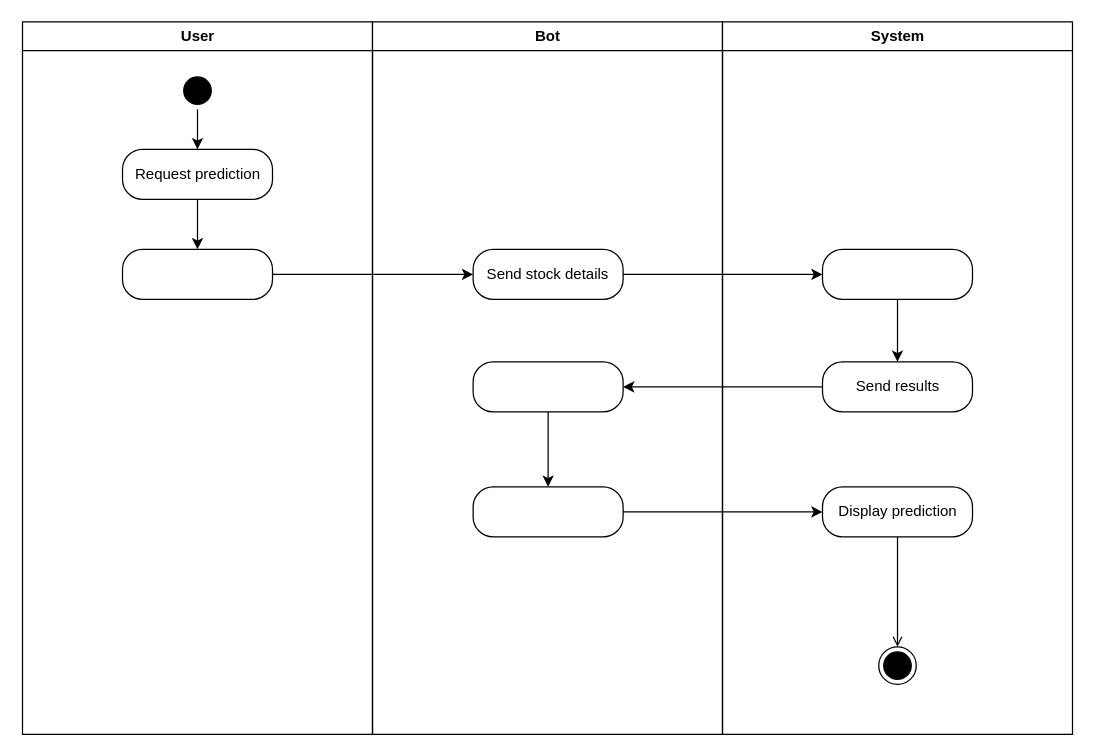
Image size: 1094x756. Some labels were removed from this diagram. The centre of each missing label's shape, as x and y in pixels:
"Fill stock details" goes at point 196,273.
"Generate prediction" goes at point 547,386.
"Predict price generate a signal" goes at point 896,273.
"Send result" goes at point 547,511.
